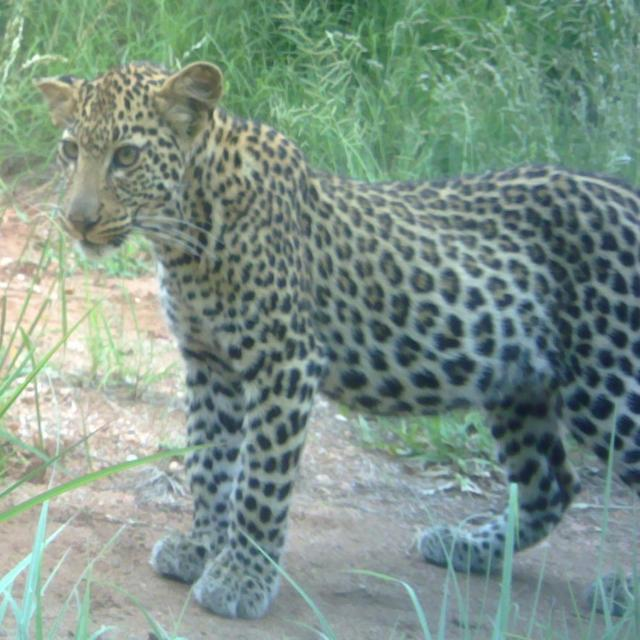Leopard: (47, 61, 628, 584)
